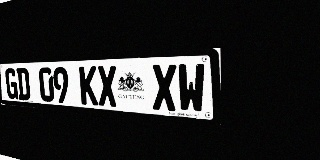0: (38, 67, 54, 102)
9: (53, 67, 70, 103)
D: (16, 68, 31, 100)
G: (5, 68, 18, 100)
K: (79, 66, 98, 106)
W: (177, 63, 206, 114)
X: (152, 64, 177, 111), (97, 66, 118, 107)
